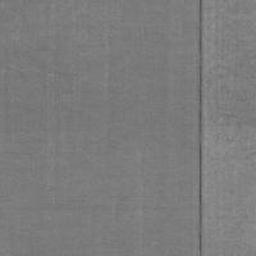Welding line: (197, 0, 204, 256)
